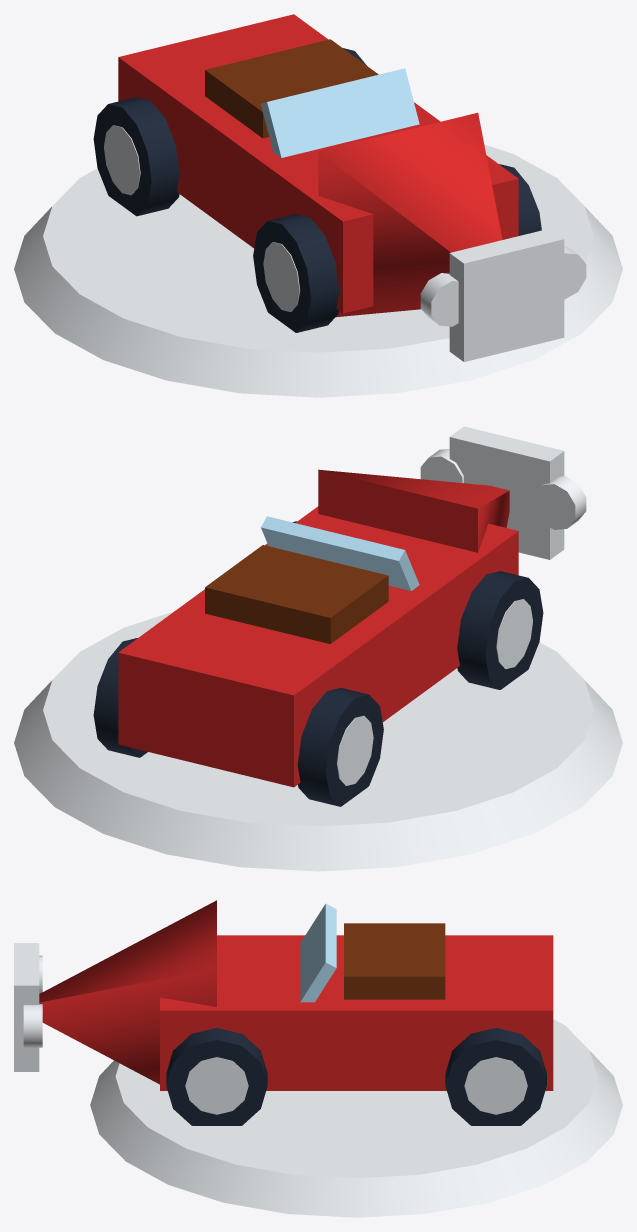
The model's file is pawn_car.glb.
3 renders of one model, top to bottom at view 1: azimuth 30°, elevation 25°; view 2: azimuth 150°, elevation 25°; view 3: azimuth 270°, elevation 25°, orthographic. The views are drawn at different scales.
Visible parts, largest first — view 1: Pawn_Car_Roadster; view 2: Pawn_Car_Roadster; view 3: Pawn_Car_Roadster.
Boxes of the visible parts, x1,y1,x2,y2 form: Pawn_Car_Roadster: (14,14,622,397); Pawn_Car_Roadster: (14,426,622,871); Pawn_Car_Roadster: (14,900,622,1217).
Size of the model in its own units: 0.84 by 0.2996 by 0.96.
